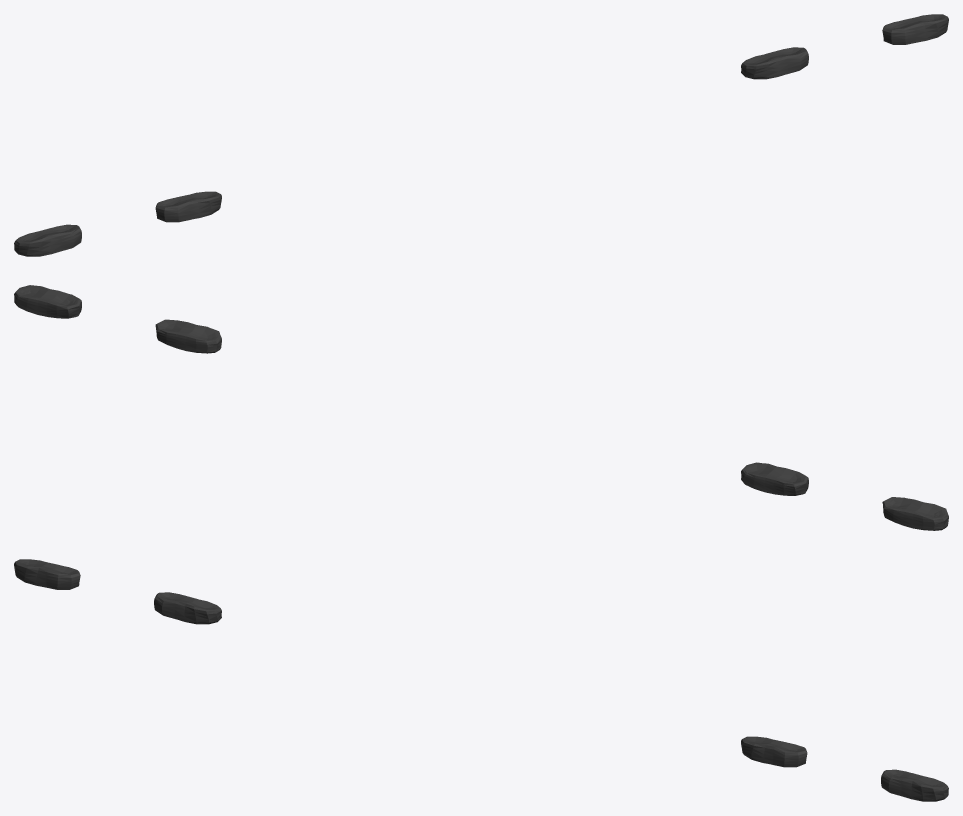
File: b_sesamoid_FL_navicular_L_LO.glb
3 views of the same model, one above another, from view 1: azimuth 30°, elevation 25°; view 2: azimuth 150°, elevation 25°; view 3: azimuth 330°, elevation 25° (orthographic).
Parts seen in each view (by area): view 1: b_sesamoid_FL_navicular_L_LO; view 2: b_sesamoid_FL_navicular_L_LO; view 3: b_sesamoid_FL_navicular_L_LO.
Part boxes in pixels (<box>): b_sesamoid_FL_navicular_L_LO: <box>14,14,948,256</box>; b_sesamoid_FL_navicular_L_LO: <box>14,285,948,530</box>; b_sesamoid_FL_navicular_L_LO: <box>14,559,948,801</box>.
Bounding box in the file's own units: 0.0035 × 6.82e-05 × 9.8e-05.
1 material, 1 textured.
